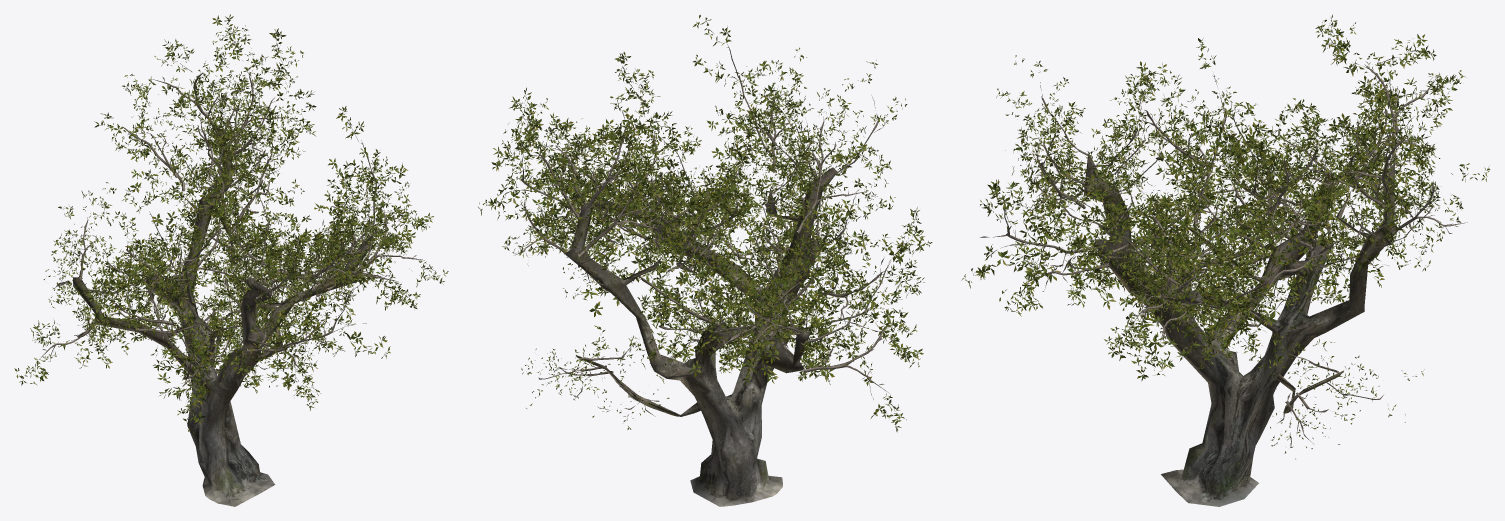
The model's file is island_tree_01.glb.
3 views of the same model, side by side, from view 1: azimuth 30°, elevation 25°; view 2: azimuth 150°, elevation 25°; view 3: azimuth 270°, elevation 25° (orthographic). The views are drawn at different scales.
Visible parts, largest first — view 1: island_tree_01_LOD0; view 2: island_tree_01_LOD0; view 3: island_tree_01_LOD0.
Boxes of the visible parts, left/top/right/bottom form: island_tree_01_LOD0: left=14, top=14, right=448, bottom=506; island_tree_01_LOD0: left=478, top=15, right=932, bottom=506; island_tree_01_LOD0: left=961, top=14, right=1490, bottom=506.
Size of the model in its own units: 4.74 by 5.02 by 4.81.
Materials: 3 (3 with a texture image).
